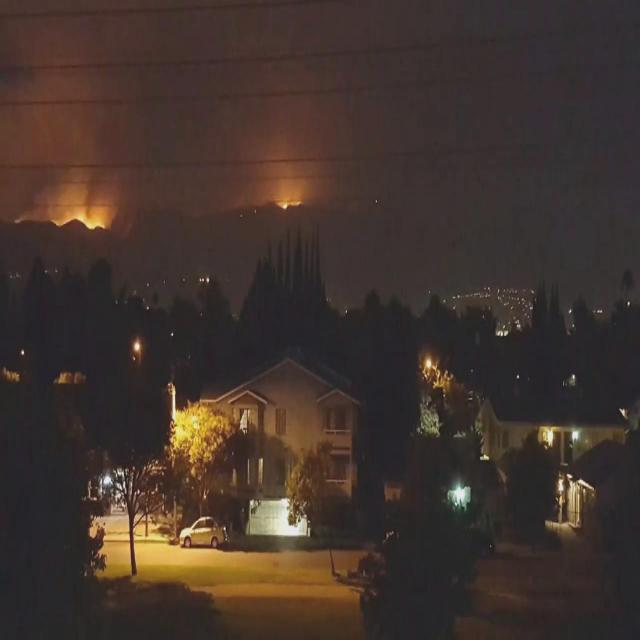Fire: (49, 209, 106, 231), (275, 194, 302, 210)
